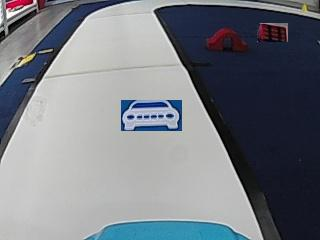bridge: (205, 26, 246, 51)
